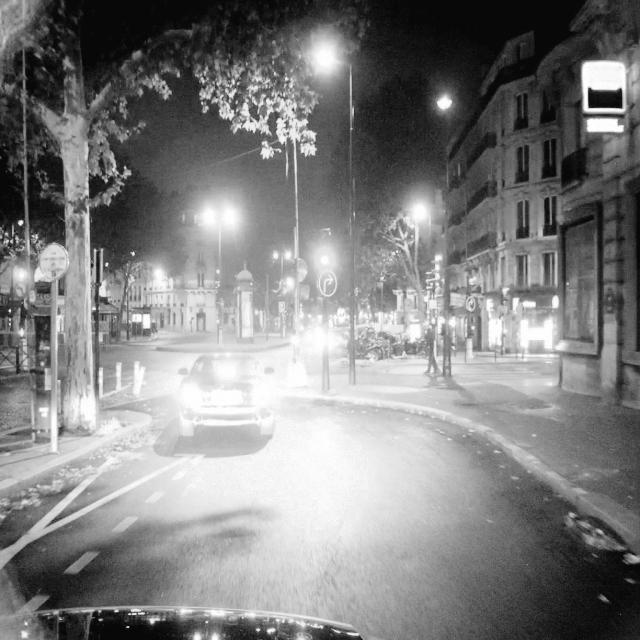Light: (315, 324, 327, 351), (320, 235, 330, 267), (16, 253, 26, 279)
Sign: (39, 242, 69, 280), (319, 270, 338, 296)
Tree: (52, 0, 112, 441)
